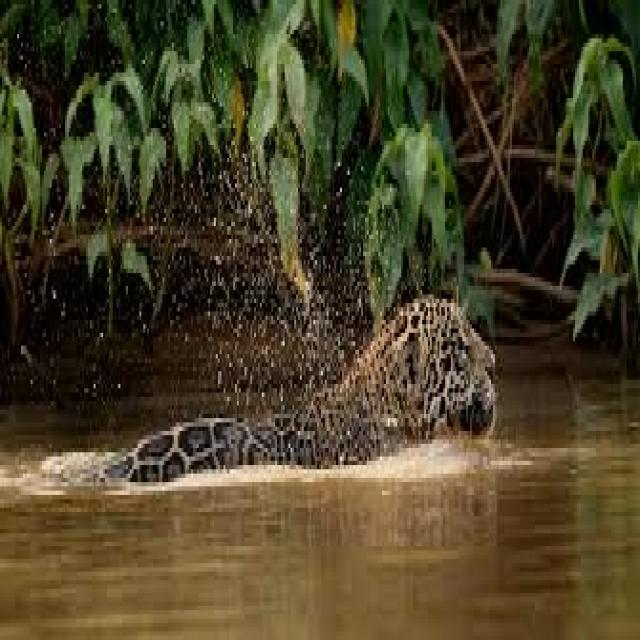Jaguar: (101, 264, 524, 503)
